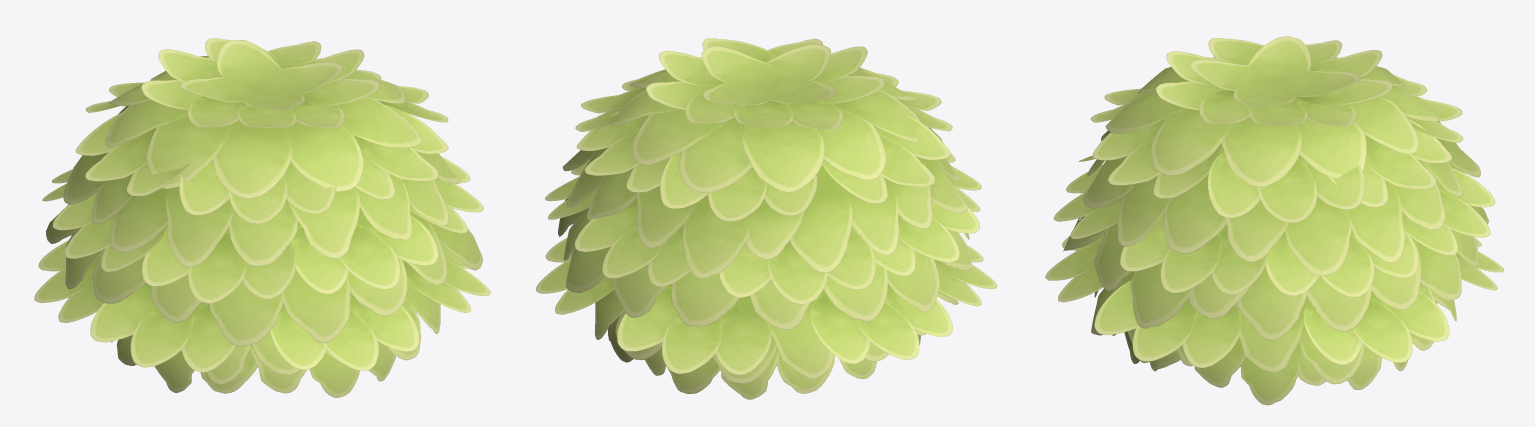
File: Bush.fbx
3 renders of one model, left to right at view 1: azimuth 30°, elevation 25°; view 2: azimuth 150°, elevation 25°; view 3: azimuth 270°, elevation 25°, orthographic.
Visible parts, largest first — view 1: Circle; view 2: Circle; view 3: Circle.
Boxes of the visible parts, x1,y1,x2,y2 form: Circle: (34,38,490,397); Circle: (536,38,997,399); Circle: (1045,36,1503,405).
Size of the model in its own units: 87.3 by 52.65 by 83.14.
